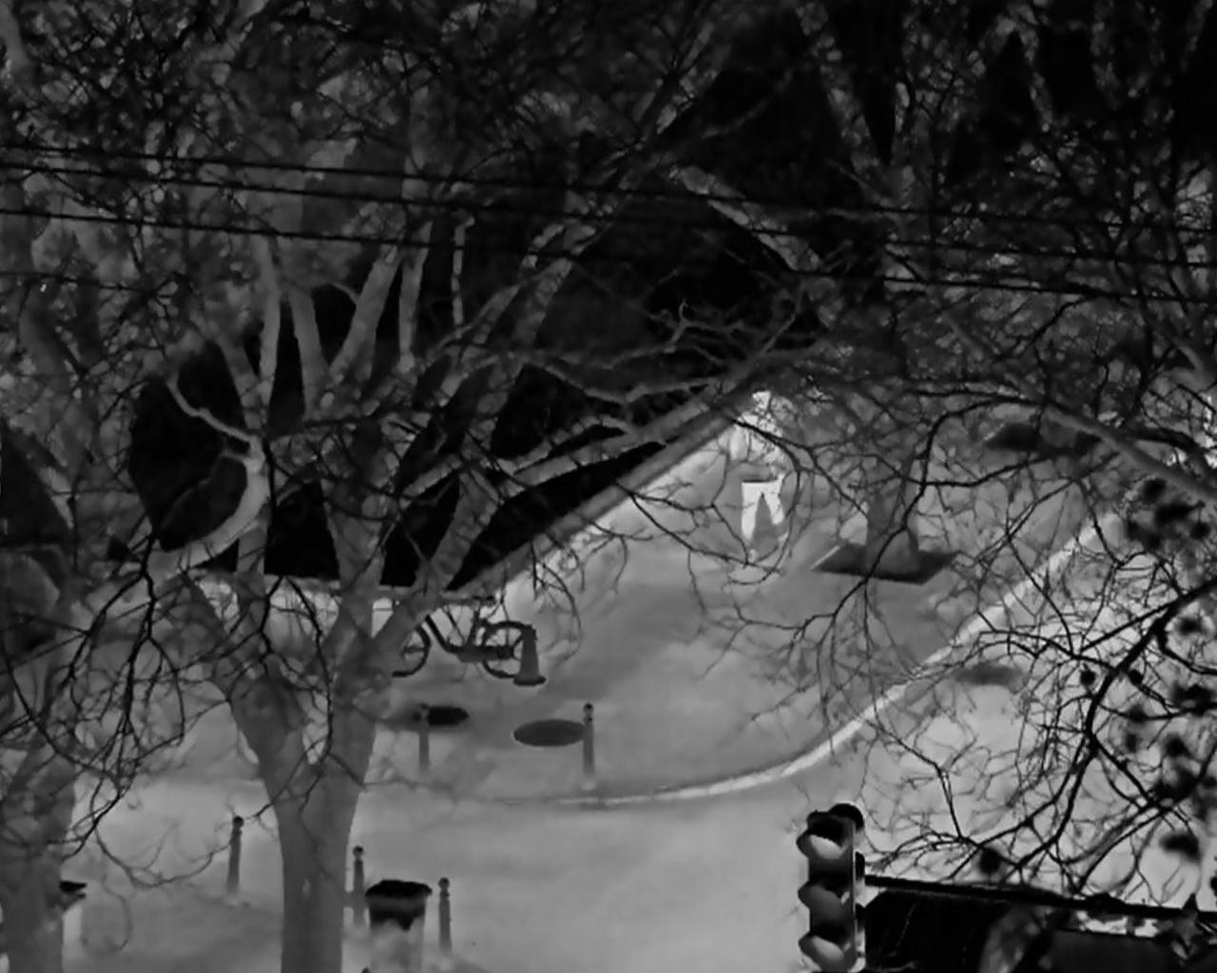person: (730, 391, 790, 544)
